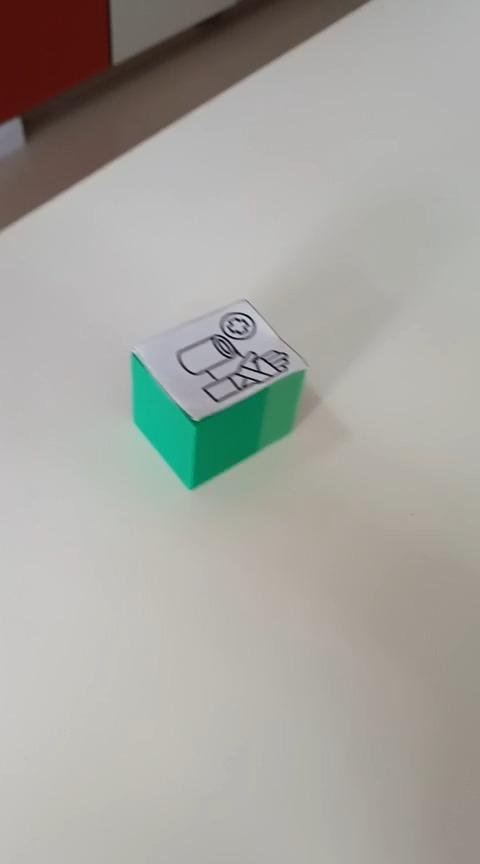Bandages: (129, 296, 309, 490)
